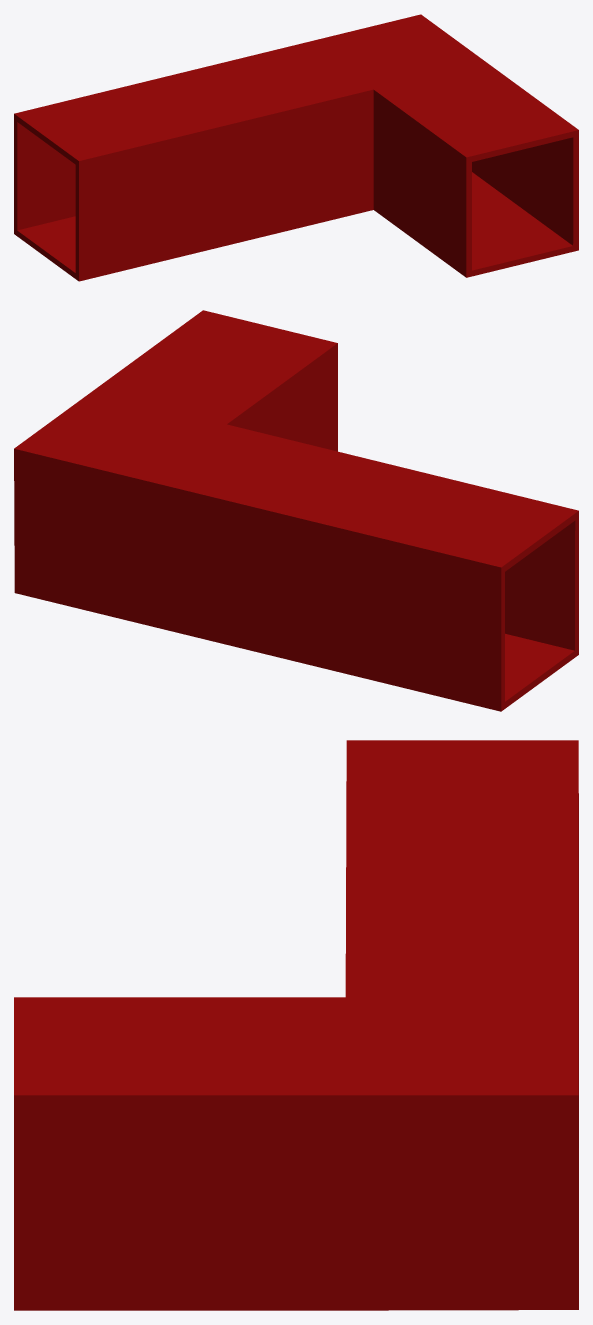
File: VentventTwo_real.fbx
3 renders of one model, top to bottom at view 1: azimuth 30°, elevation 25°; view 2: azimuth 150°, elevation 25°; view 3: azimuth 270°, elevation 25°, orthographic. The views are drawn at different scales.
Parts seen in each view (by area): view 1: ventTwo_real; view 2: ventTwo_real; view 3: ventTwo_real.
Boxes of the visible parts, box(x1,y1,x2,y2) form: ventTwo_real: box(14, 14, 578, 281); ventTwo_real: box(14, 310, 578, 711); ventTwo_real: box(14, 740, 578, 1310).
Bounding box in the file's own units: 4.39 × 1.24 × 2.95.
